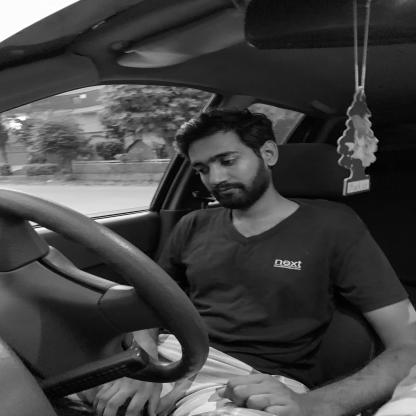no-seatbelt: (146, 96, 307, 324)
